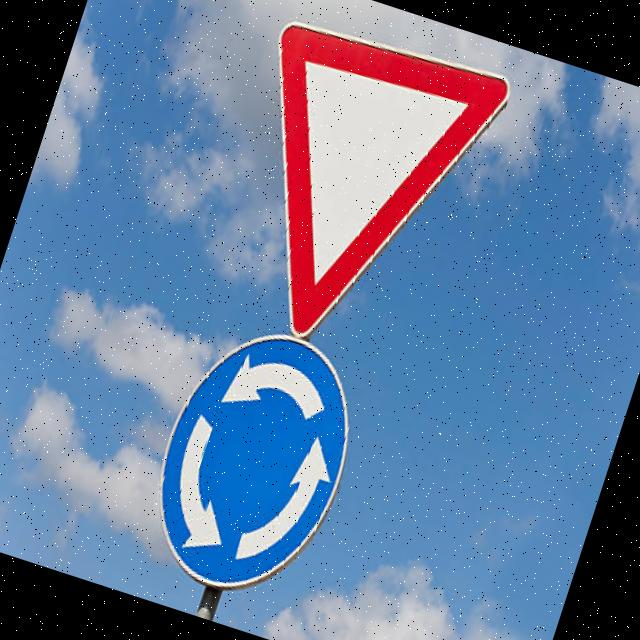round_about: (130, 308, 379, 616)
